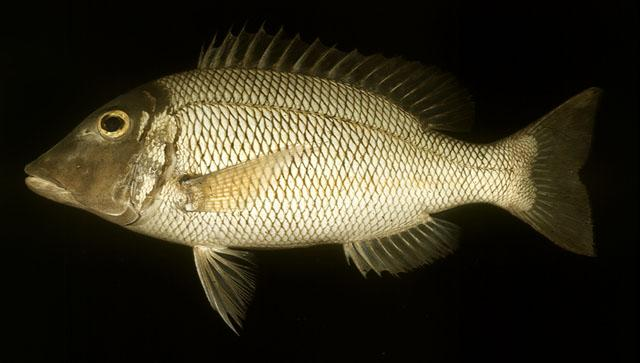Mulut: (7, 150, 63, 214)
Sirip Anal: (338, 212, 468, 284)
Sirip Dada: (172, 144, 314, 228)
Sirip Ekor: (493, 82, 613, 262)
Sirip Perut: (184, 236, 262, 344)
Sirip Punggung: (188, 19, 484, 148)
